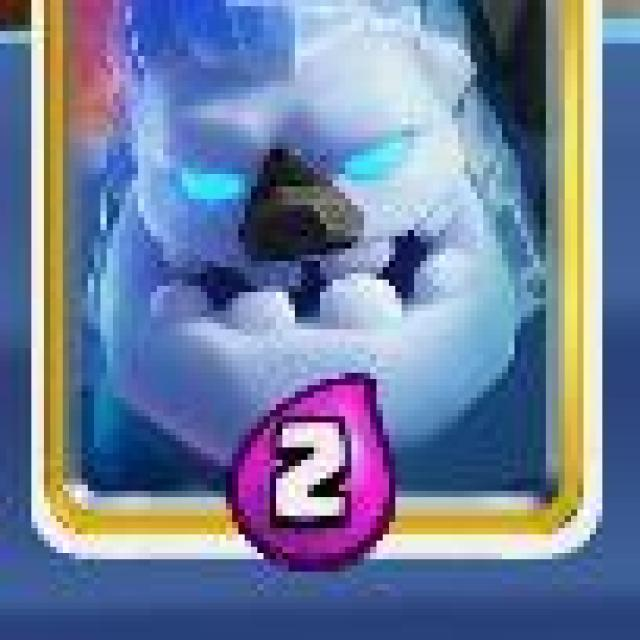Ice_Golem: (28, 0, 601, 565)
